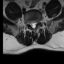CCS_normal: (32, 20, 34, 31)
LFS_stenosis: (36, 19, 39, 25)
LLS_normal: (34, 20, 36, 29)
RFS_severe_stenosis: (28, 20, 30, 26)
RLS_normal: (30, 21, 32, 29)
